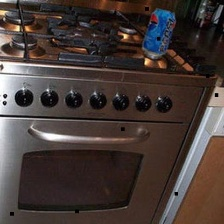can: (139, 4, 179, 64)
